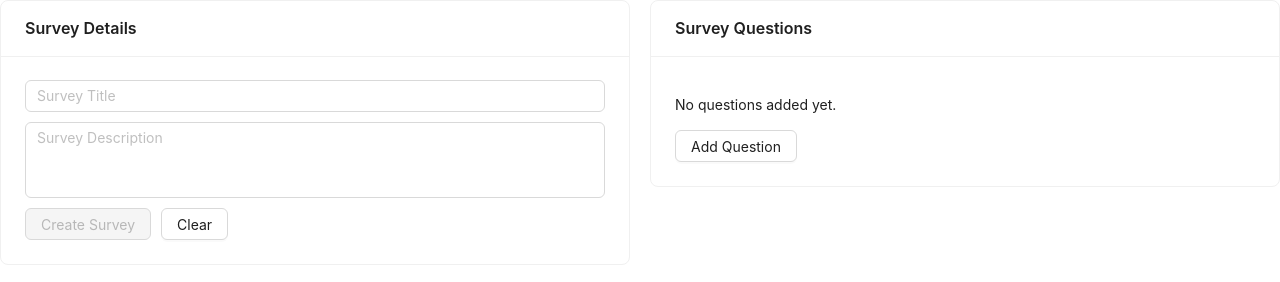
Test: CreateSurvey component › Clear button resets form
In the field with test id "survey-title-input": (315, 96) 25,80 -> 605,112, type "Test Survey"
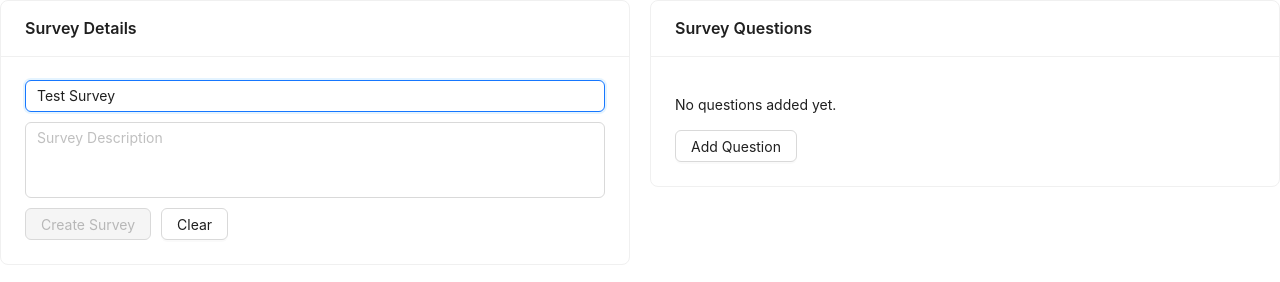
In the text box with test id "survey-description-textarea": (315, 160) 25,122 -> 605,198, type "This is a test survey."
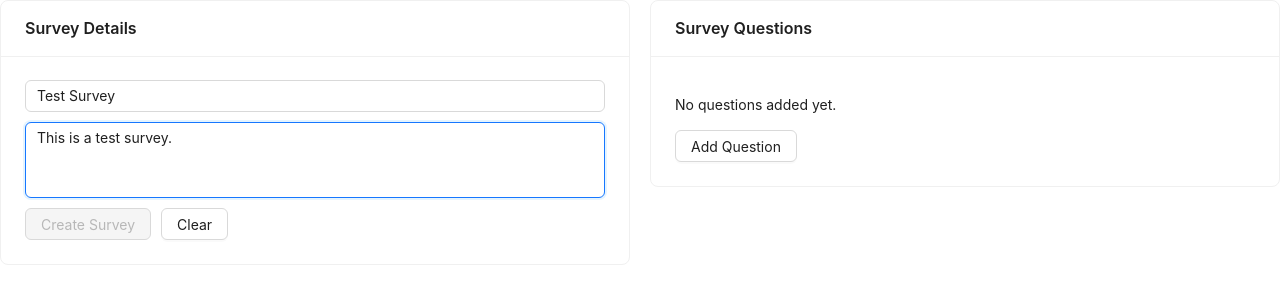
Click the button "Clear": (195, 224) 161,208 -> 228,240
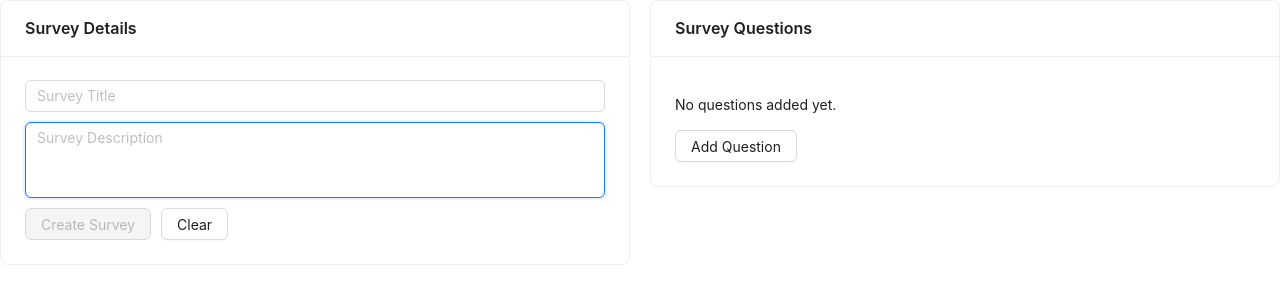
Check: the field with test id "survey-title-input" is empty, box 25,80 -> 605,112
Check: the text box with test id "survey-description-textarea" is empty, box 25,122 -> 605,198
